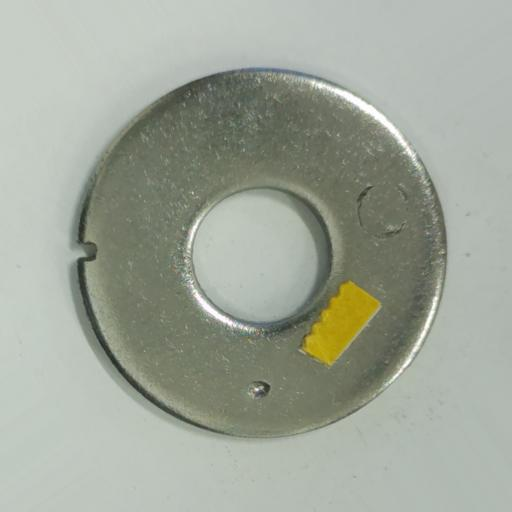burr: (76, 239, 99, 264)
circular_cavity: (247, 381, 270, 399)
